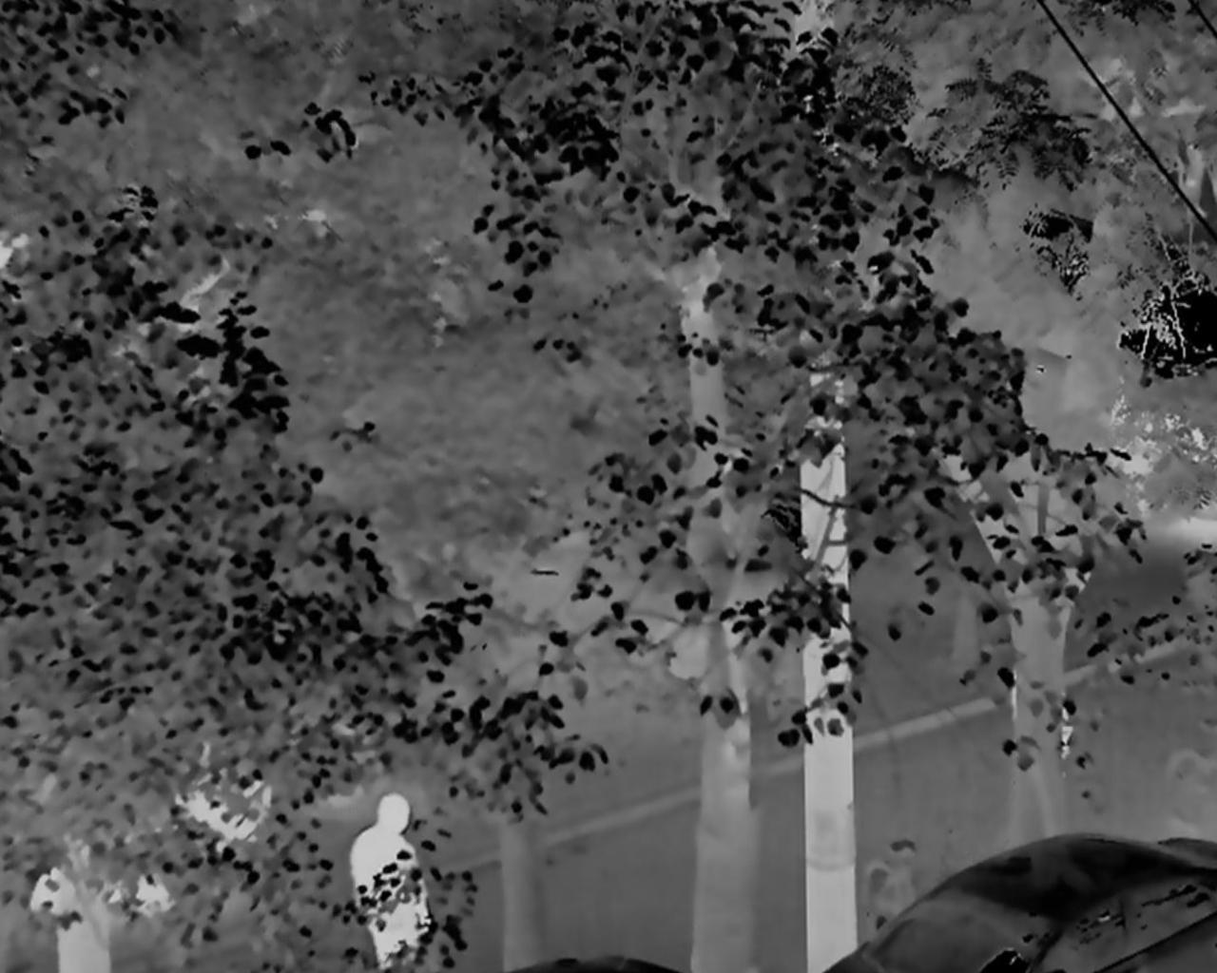person: (349, 795, 438, 973)
